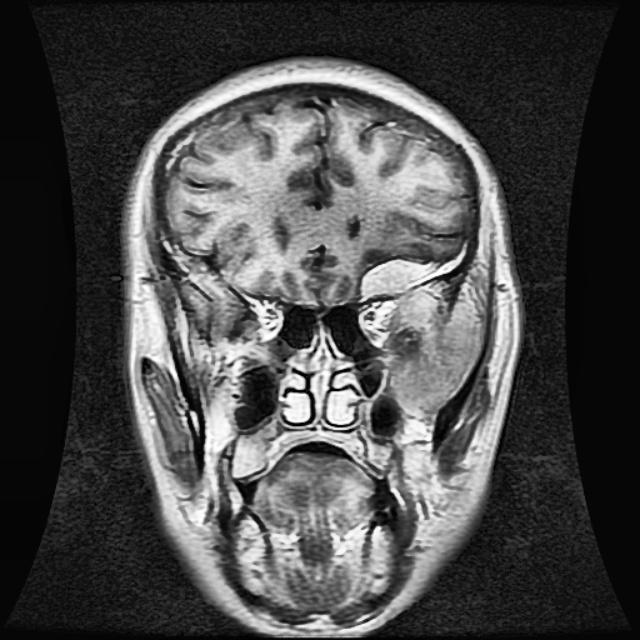Glioma: (359, 257, 435, 300)
